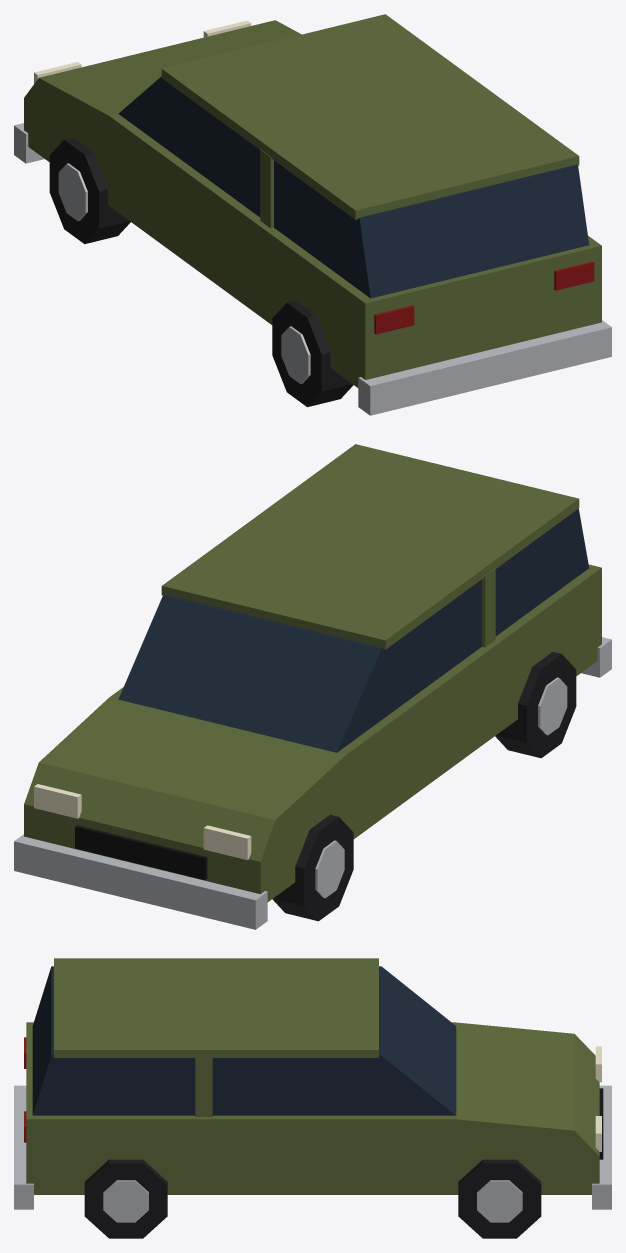
Rendered from CarWagonOlive.obj.
3 views of the same model, one above another, from view 1: azimuth 30°, elevation 25°; view 2: azimuth 150°, elevation 25°; view 3: azimuth 270°, elevation 25° (orthographic). The views are drawn at different scales.
Visible parts, largest first — view 1: CarWagonOlive; view 2: CarWagonOlive; view 3: CarWagonOlive.
Boxes of the visible parts, x1,y1,x2,y2 form: CarWagonOlive: [14, 14, 611, 415]; CarWagonOlive: [14, 444, 611, 929]; CarWagonOlive: [14, 958, 611, 1238].
Size of the model in its own units: 2.01 by 1.61 by 4.8.
1 material, 1 textured.
